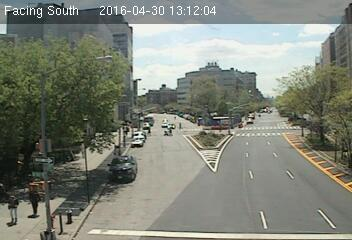neg: (212, 176, 230, 200), (215, 70, 232, 93), (307, 116, 322, 137), (332, 13, 344, 30), (78, 82, 90, 99), (120, 124, 131, 139), (162, 11, 173, 25), (23, 9, 33, 22), (253, 107, 262, 119), (176, 120, 183, 129), (174, 114, 179, 121)
pos: (1, 193, 25, 227), (22, 187, 45, 218)
